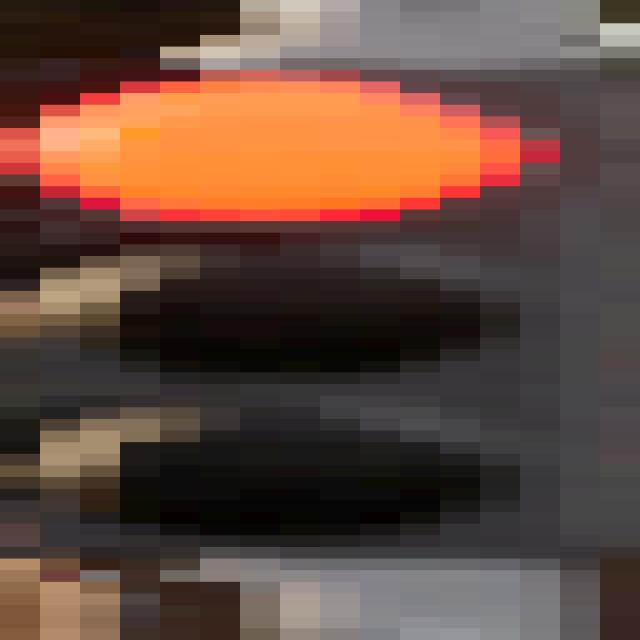red_light: (0, 69, 608, 561)
